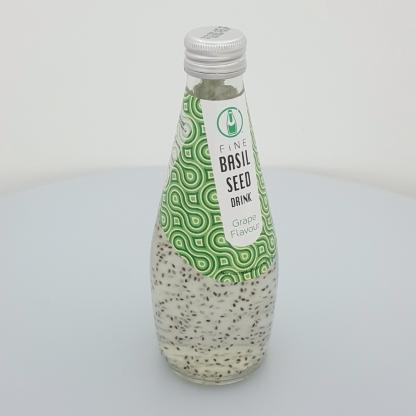------------------------: (149, 26, 279, 385)
